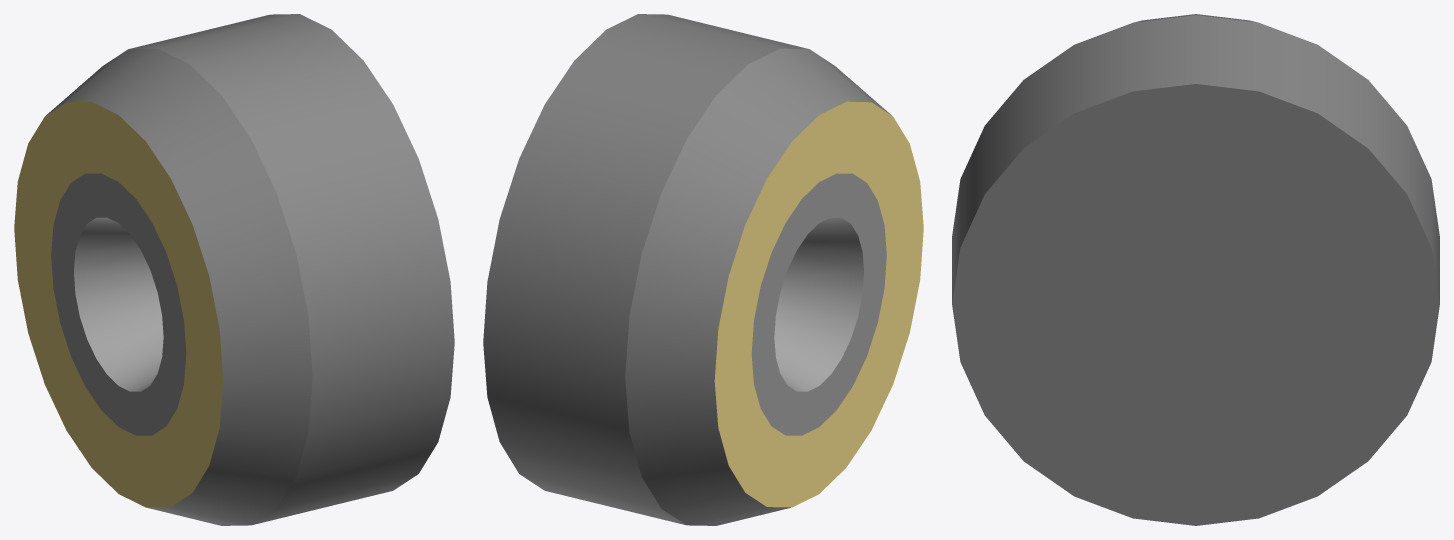
File: wheelRacing.glb
3 renders of one model, left to right at view 1: azimuth 30°, elevation 25°; view 2: azimuth 150°, elevation 25°; view 3: azimuth 270°, elevation 25°, orthographic.
Visible parts, largest first — view 1: wheelRacing; view 2: wheelRacing; view 3: wheelRacing.
Boxes of the visible parts, x1,y1,x2,y2 form: wheelRacing: (14, 14, 454, 525); wheelRacing: (483, 14, 923, 525); wheelRacing: (952, 14, 1439, 525).
Size of the model in its own units: 0.3 by 0.6 by 0.6.
